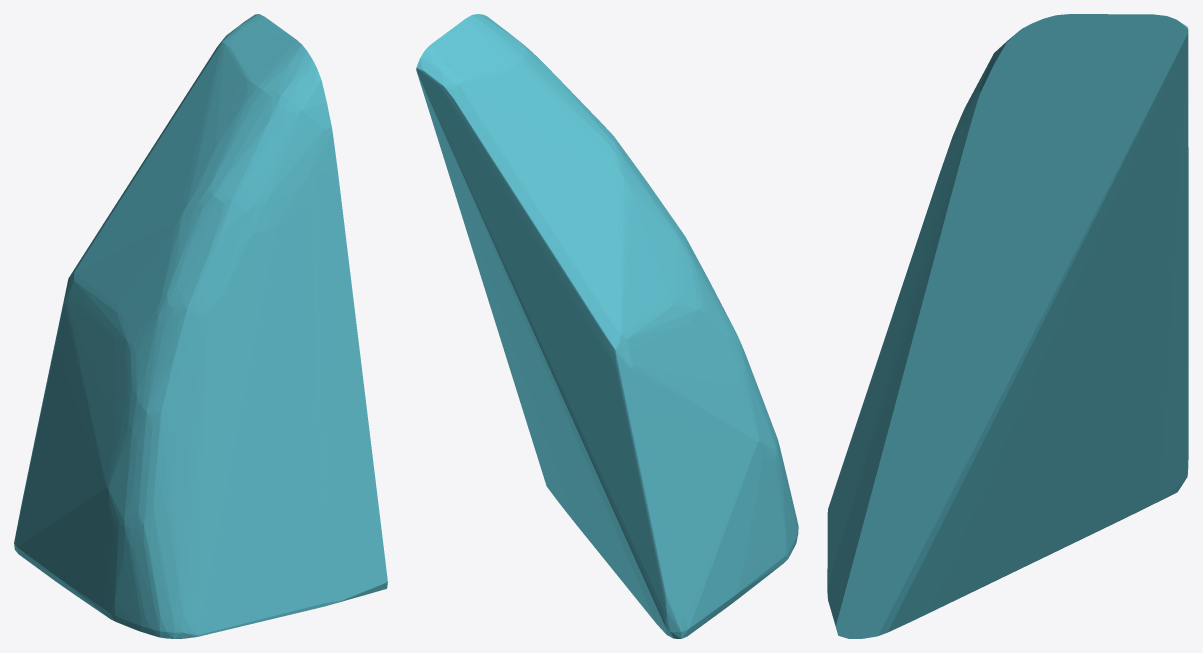
File: left-shoulder-roll-0_part_2.obj
3 views of the same model, side by side, from view 1: azimuth 30°, elevation 25°; view 2: azimuth 150°, elevation 25°; view 3: azimuth 270°, elevation 25° (orthographic). The views are drawn at different scales.
Size of the model in its own units: 0.0161 by 0.0308 by 0.0161.
